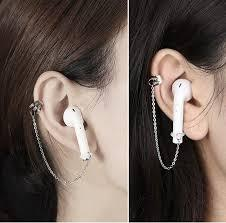earphone: (61, 101, 96, 166), (168, 76, 193, 145)
